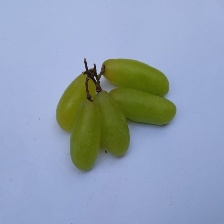grapes: (22, 18, 179, 216)
